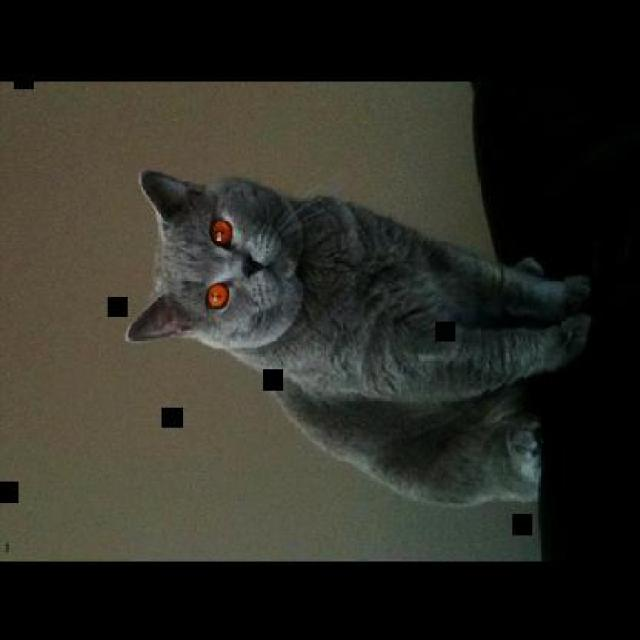unauthorized: (123, 168, 592, 403), (269, 374, 543, 508)
